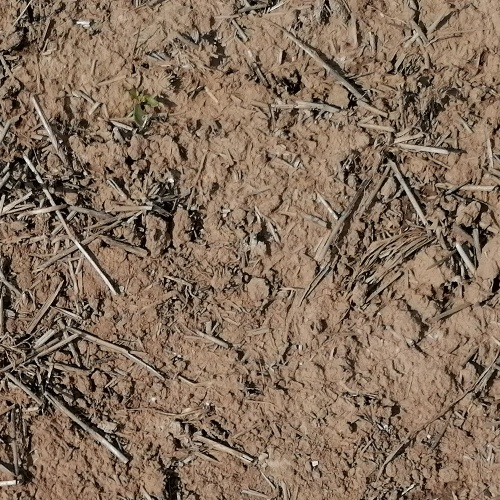beet: (128, 94, 159, 128)
